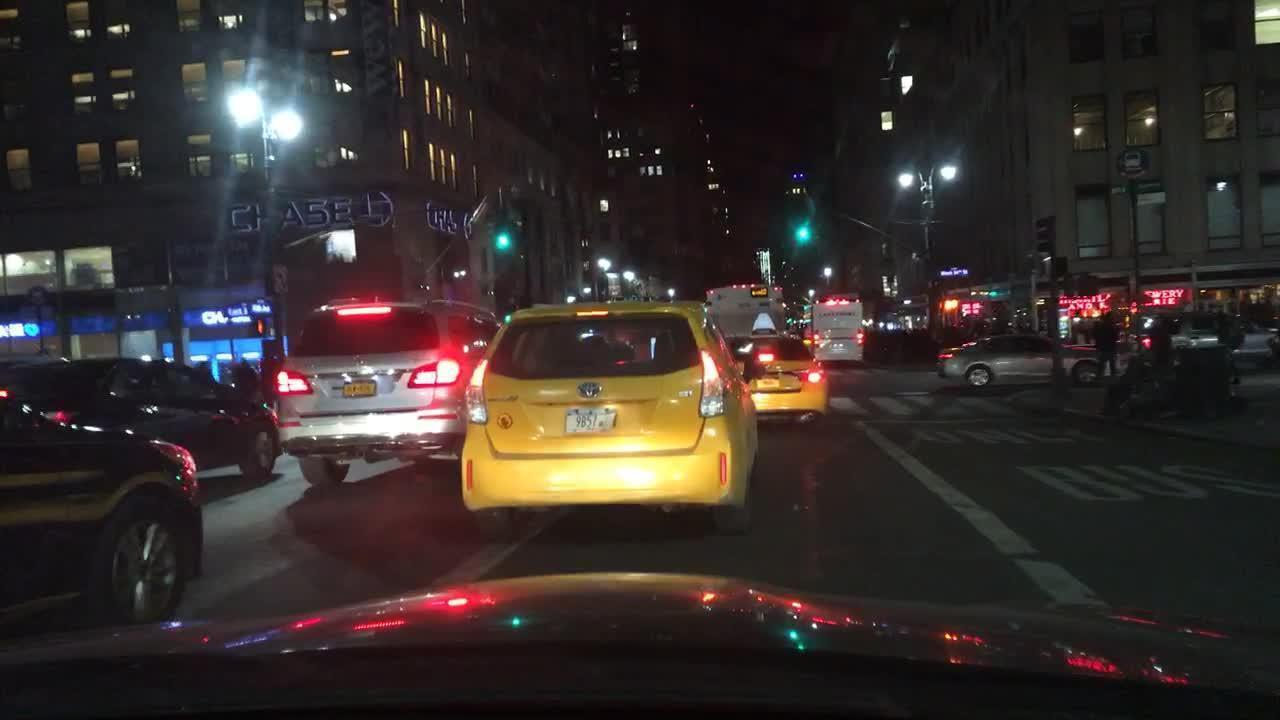Toyota: (572, 376, 610, 408)
